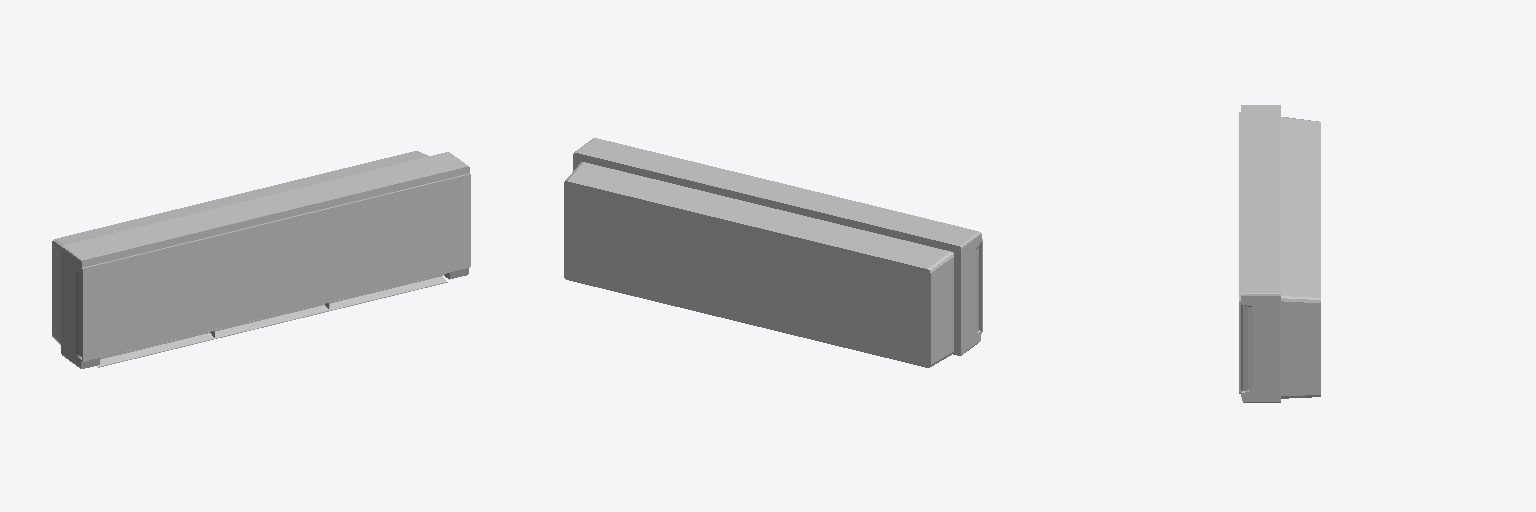
Rendered from Ace_LG.obj.
3 views of the same model, side by side, from view 1: azimuth 30°, elevation 25°; view 2: azimuth 150°, elevation 25°; view 3: azimuth 270°, elevation 25° (orthographic).
Parts seen in each view (by area): view 1: LG_CC18AW_glass, LG_CC18AW_main, LG_CC18AW_back, LG_CC18AW_bottom; view 2: LG_CC18AW_back, LG_CC18AW_main; view 3: LG_CC18AW_main, LG_CC18AW_back, LG_CC18AW_glass.
Part boxes in pixels (x1,y1,x2,y2): LG_CC18AW_glass: (82, 174, 470, 361); LG_CC18AW_main: (61, 152, 469, 368); LG_CC18AW_back: (52, 151, 427, 344); LG_CC18AW_bottom: (97, 273, 447, 367); LG_CC18AW_back: (564, 162, 953, 367); LG_CC18AW_main: (573, 138, 981, 355); LG_CC18AW_main: (1241, 105, 1280, 402); LG_CC18AW_back: (1281, 117, 1320, 398); LG_CC18AW_glass: (1239, 112, 1240, 393).
Size of the model in its own units: 111 by 31.11 by 20.53.